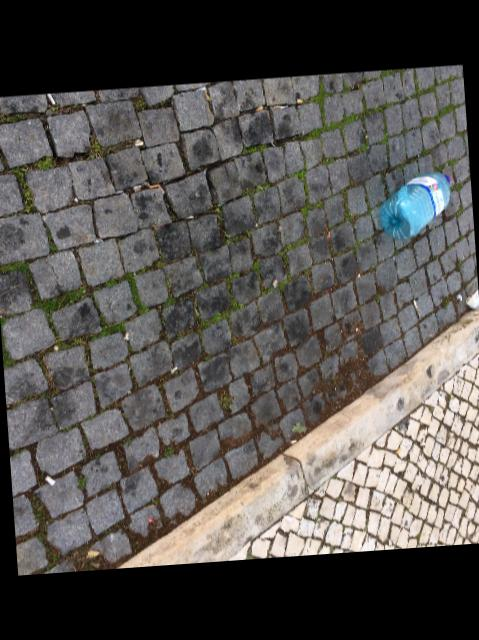plastic: (377, 172, 448, 239)
